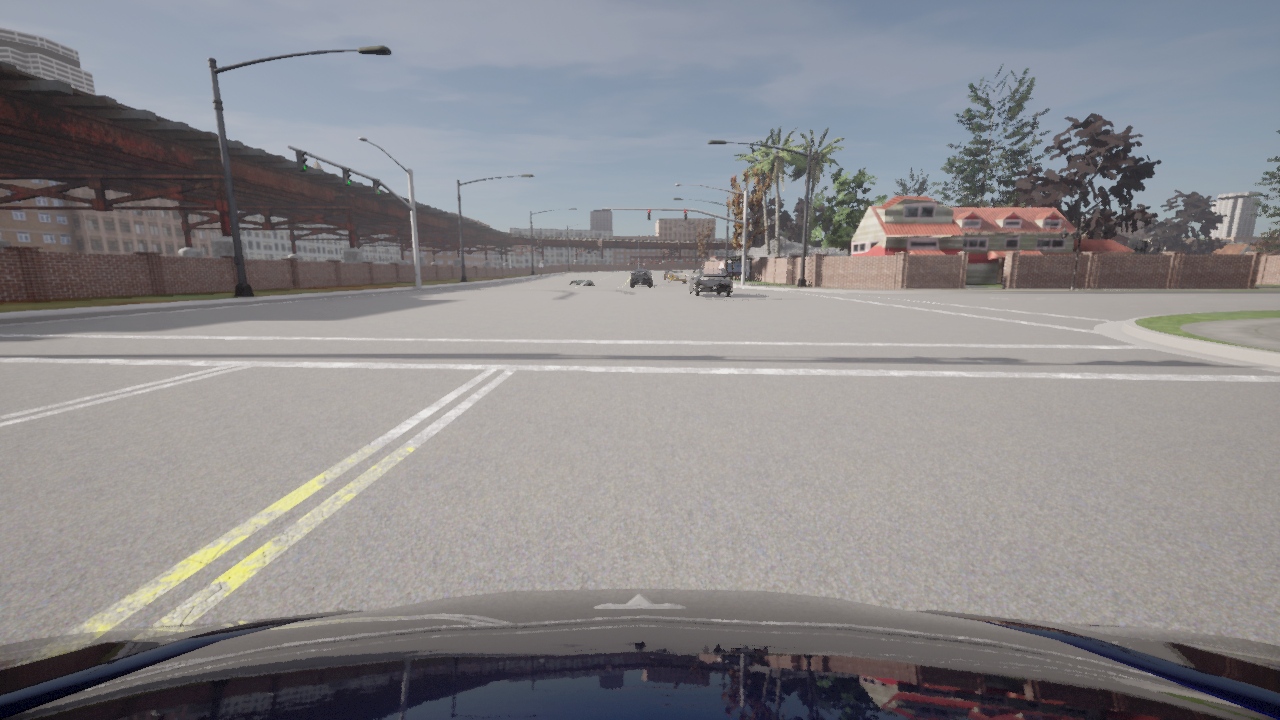cyclist: (0, 588, 1279, 719), (687, 267, 731, 296), (631, 269, 651, 286), (667, 267, 686, 283), (569, 279, 595, 286), (663, 268, 673, 280), (665, 268, 666, 270)
